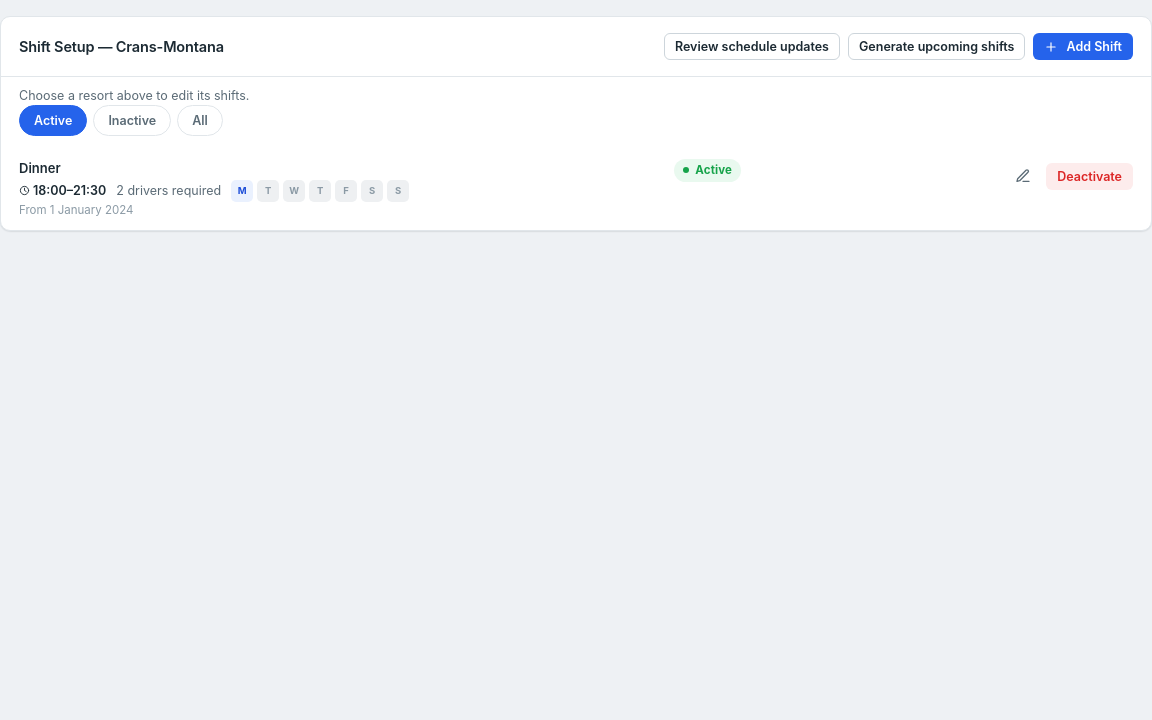
Test: ShiftSetupPanel: Edit Shift › 15/20. edit pre-fills the current schedule as one form, not per-weekday rows
Expected: the text "Dinner" is shown, 19,160 -> 60,176
Click the button named "Edit Dinner".
click(1023, 176)  # box 1006,159 -> 1040,193
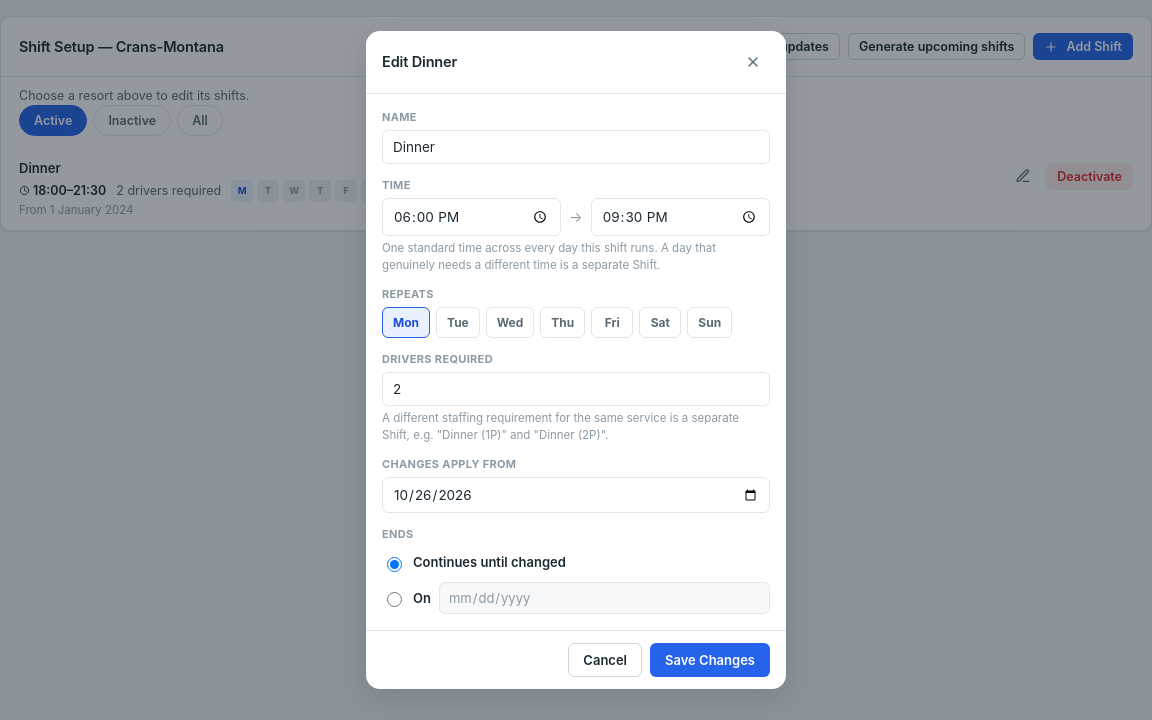
Expected: the field labelled "Name" holds "Dinner", 382,130 -> 770,164
Expected: the time field named "Start time" holds "18:00", 382,198 -> 561,236
Expected: the time field named "End time" holds "21:30", 591,198 -> 770,236
